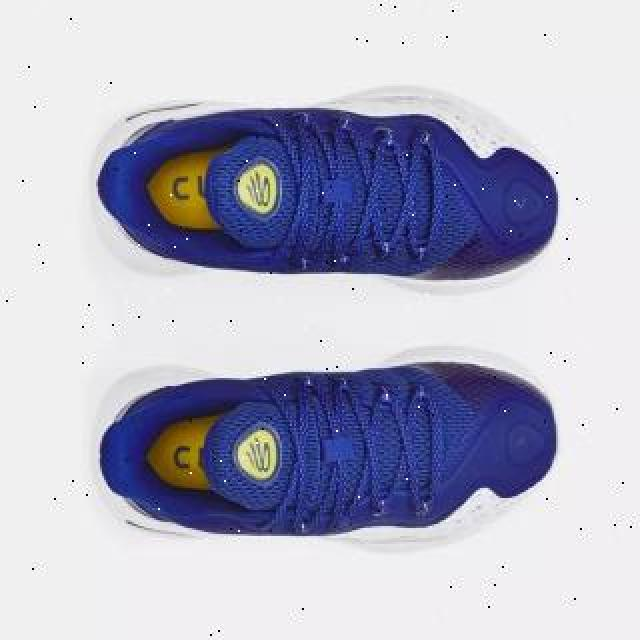shoe: (86, 81, 562, 297), (90, 341, 558, 543)
